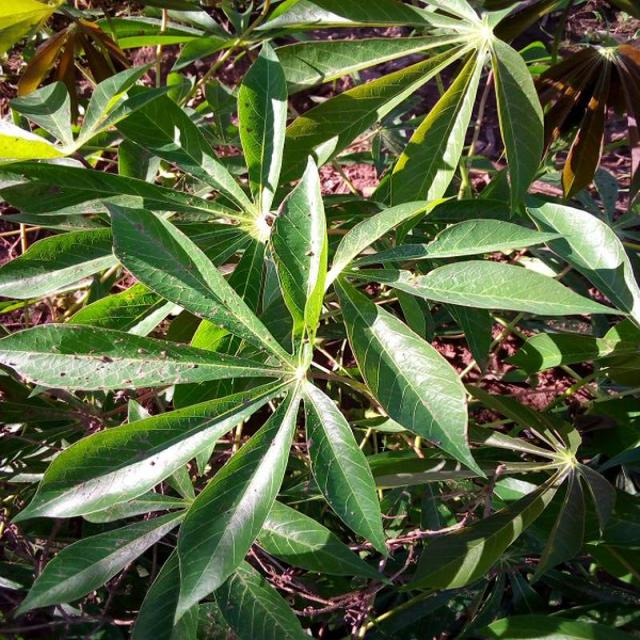cassava leaf: (1, 2, 637, 637)
